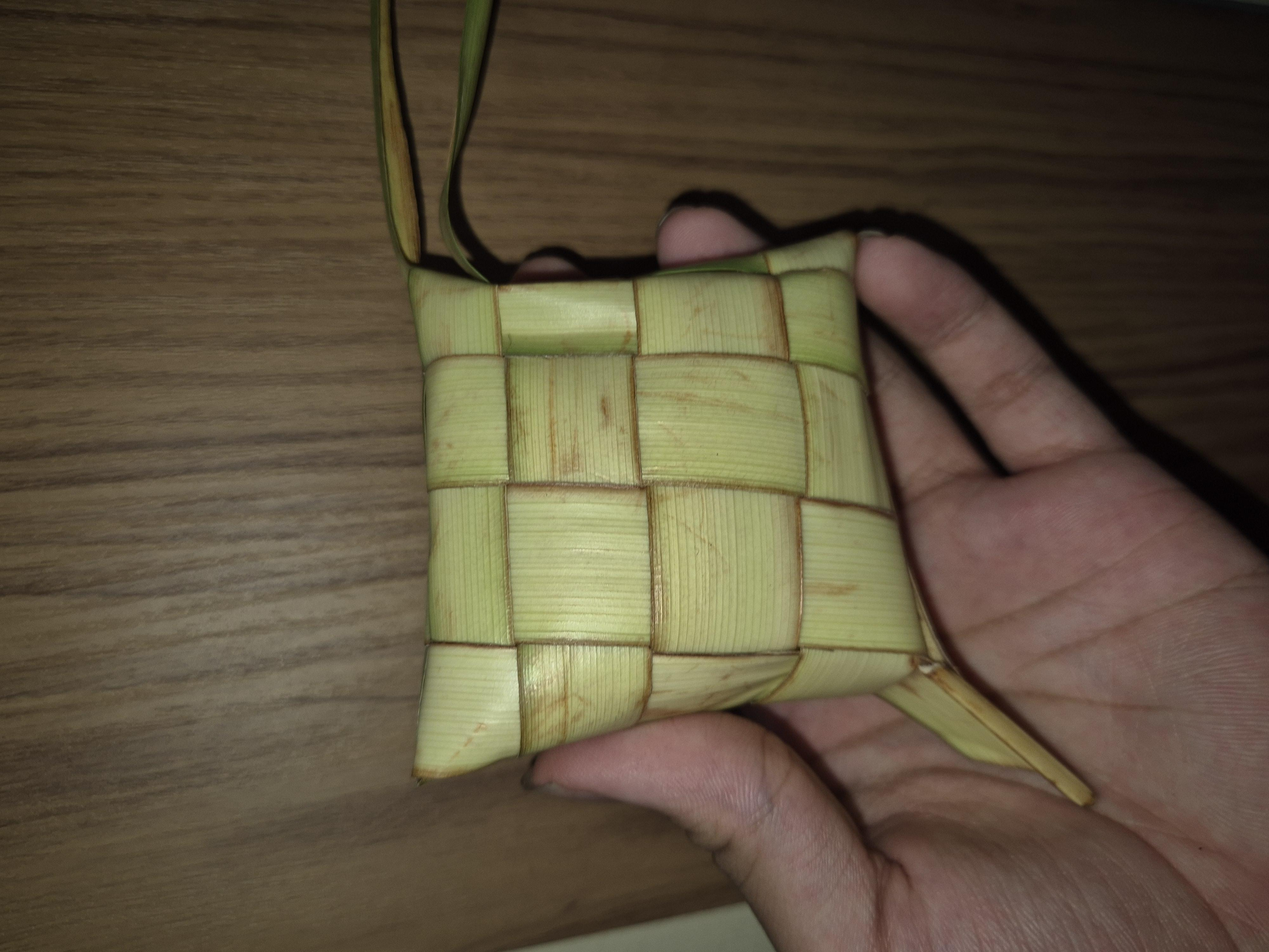Tipat Nasi: (232, 307, 954, 694)
